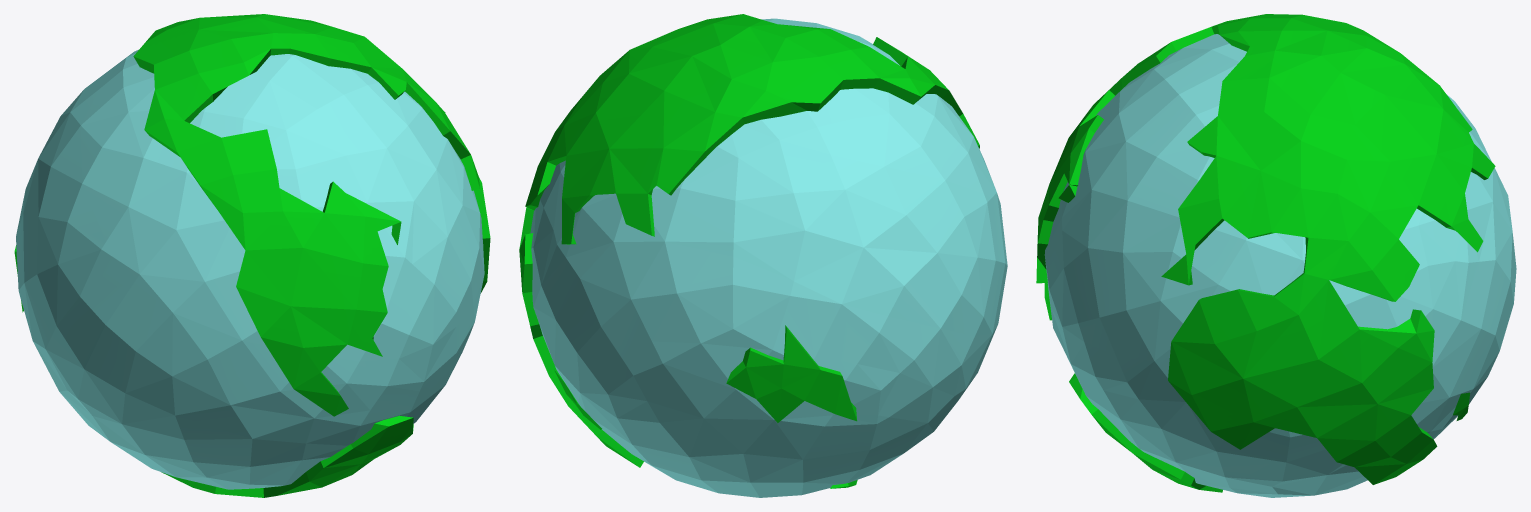
The model's file is earth.glb.
3 views of the same model, side by side, from view 1: azimuth 30°, elevation 25°; view 2: azimuth 150°, elevation 25°; view 3: azimuth 270°, elevation 25° (orthographic). The views are drawn at different scales.
Visible parts, largest first — view 1: huitugou_2145_09; view 2: huitugou_2145_09; view 3: huitugou_2145_09.
Part boxes in pixels (x1,y1,x2,y2): huitugou_2145_09: [14, 14, 490, 497]; huitugou_2145_09: [519, 14, 1007, 497]; huitugou_2145_09: [1036, 14, 1516, 497].
Bounding box in the file's own units: 1.13 × 1.14 × 1.14.
Materials: 1 (1 with a texture image).
